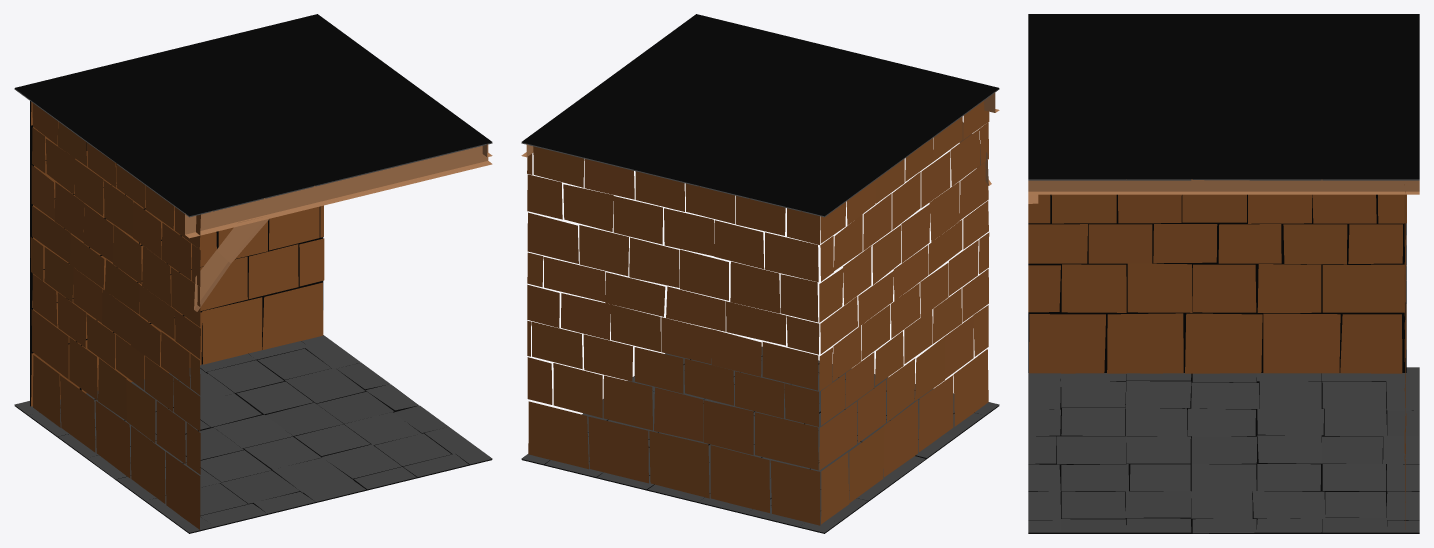
Rendered from wall_1.glb.
The picture shows the model from 3 angles, left to right: view 1: azimuth 30°, elevation 25°; view 2: azimuth 150°, elevation 25°; view 3: azimuth 270°, elevation 25°; orthographic projection. The views are drawn at different scales.
Parts seen in each view (by area): view 1: wall_1; view 2: wall_1; view 3: wall_1.
Part boxes in pixels (x1=…): wall_1: x1=14, y1=14, x2=492, y2=533; wall_1: x1=521, y1=14, x2=999, y2=533; wall_1: x1=1028, y1=14, x2=1419, y2=533.
Size of the model in its own units: 3 by 3 by 3.
1 material, 1 textured.
